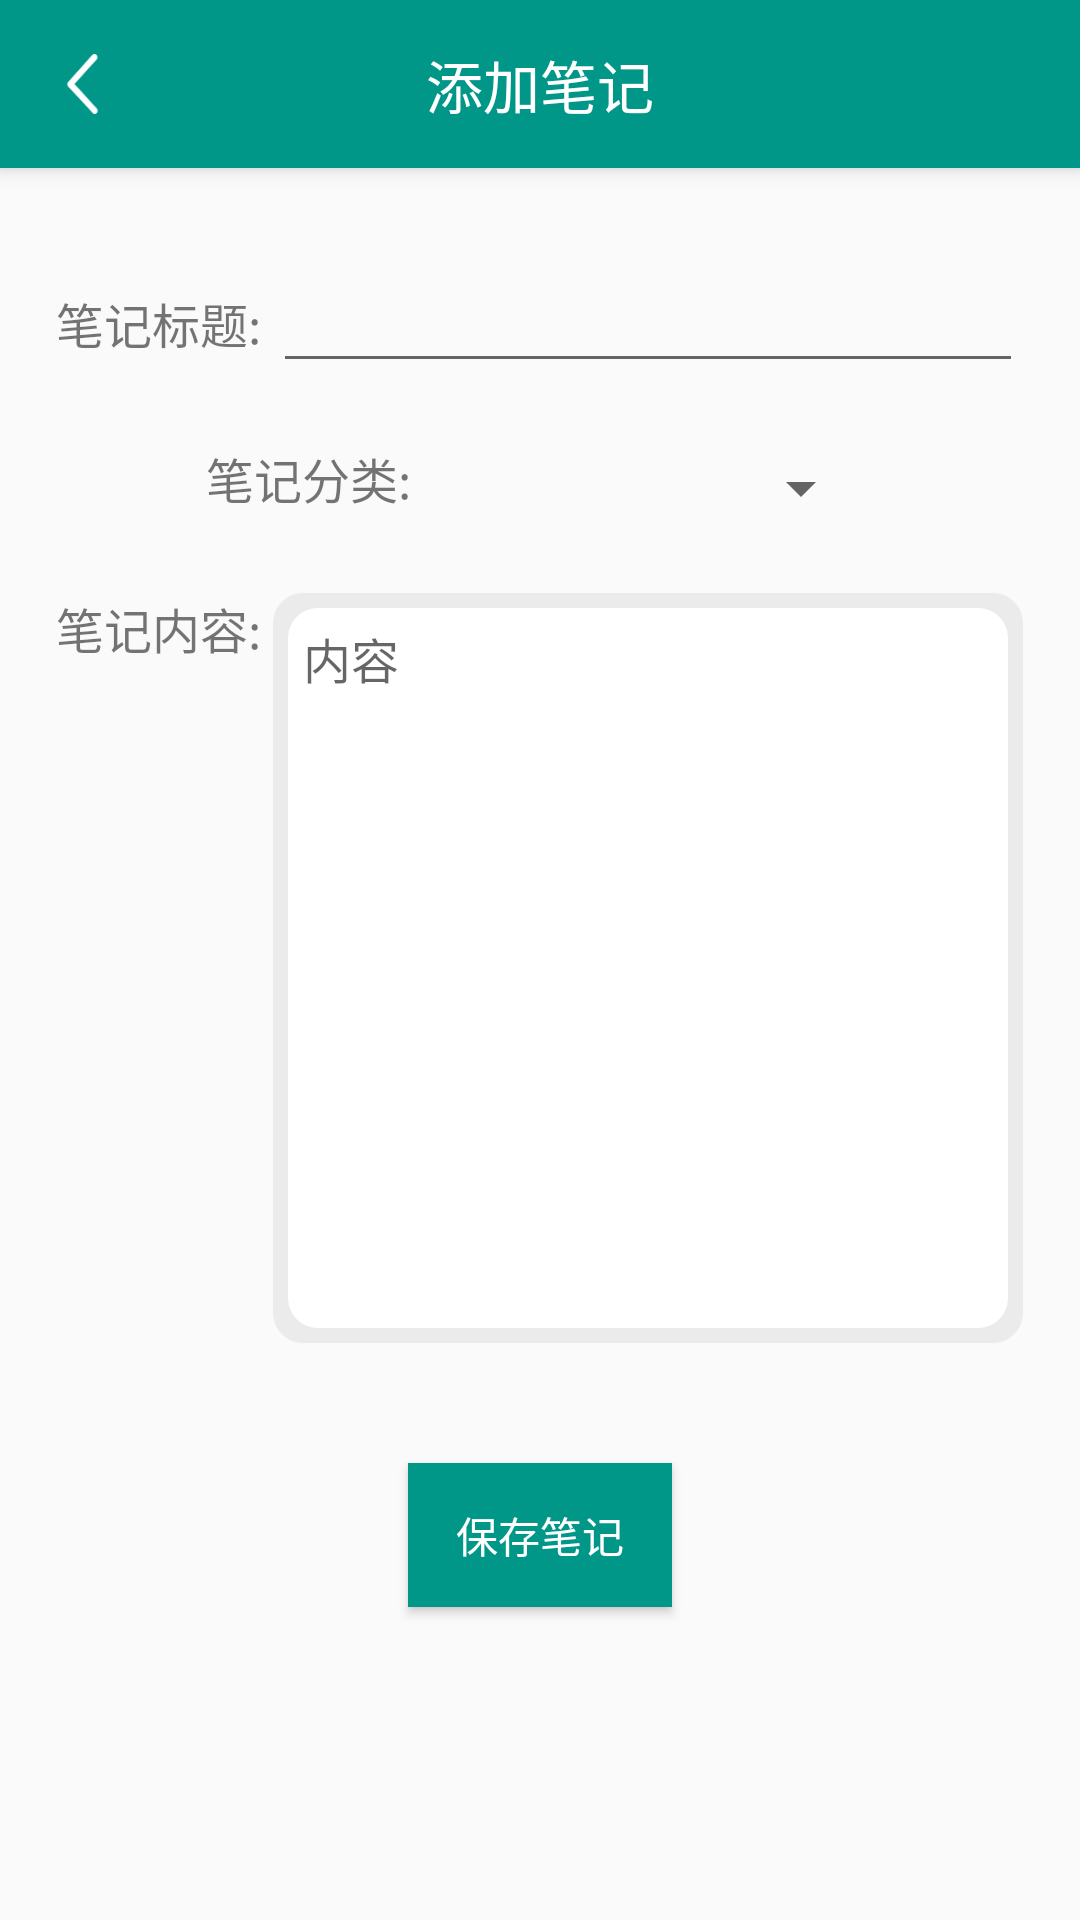

Icons on this 1080×1920 Android screen, each with its box as {"left": x1, "top": y1, "right": x2, "bottom": y2}:
back: {"left": 67, "top": 54, "right": 98, "bottom": 114}
